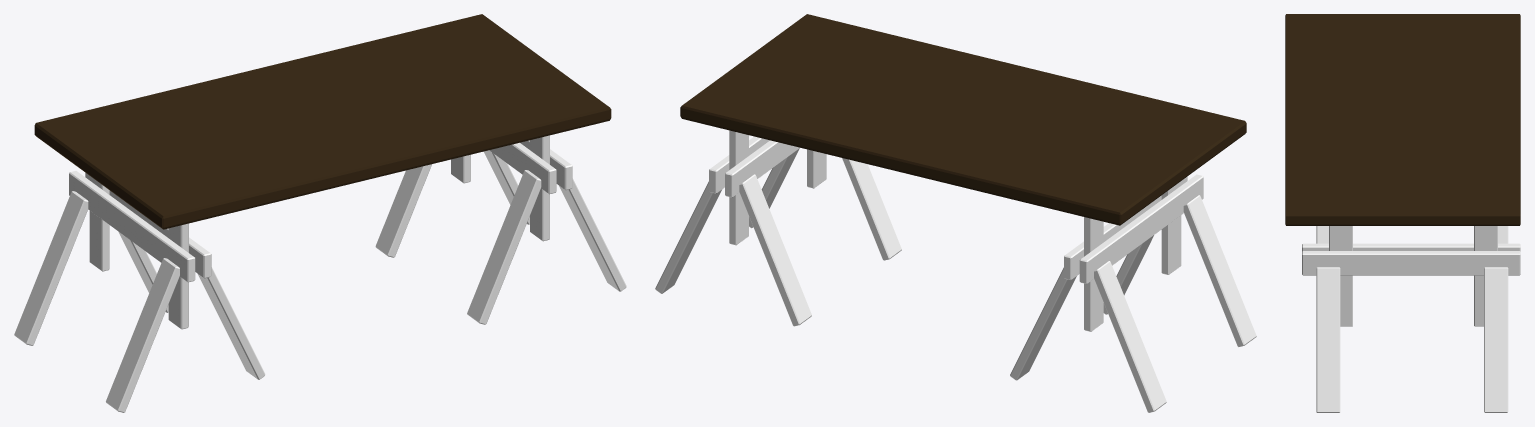
File: desk.gltf
3 views of the same model, side by side, from view 1: azimuth 30°, elevation 25°; view 2: azimuth 150°, elevation 25°; view 3: azimuth 270°, elevation 25° (orthographic). The views are drawn at different scales.
Visible parts, largest first — view 1: TABLE, CAVALETE 2, CAVALETE 1; view 2: TABLE, CAVALETE 2, CAVALETE 1; view 3: TABLE, CAVALETE 1, CAVALETE 2.
Part boxes in pixels (x1,y1,x2,y2): TABLE: (34, 14, 611, 229); CAVALETE 2: (14, 171, 265, 412); CAVALETE 1: (375, 135, 626, 324); TABLE: (680, 14, 1246, 225); CAVALETE 2: (1010, 174, 1256, 412); CAVALETE 1: (655, 130, 901, 326); TABLE: (1285, 14, 1520, 225); CAVALETE 1: (1302, 226, 1520, 412); CAVALETE 2: (1316, 226, 1508, 243).
Size of the model in its own units: 1.08 by 0.4144 by 0.4734.
